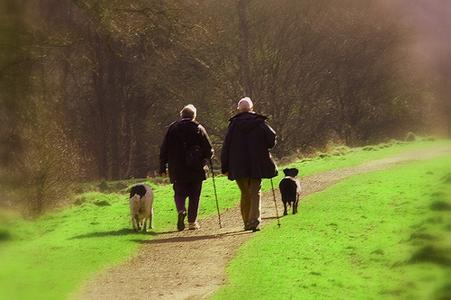person: (160, 106, 216, 230)
